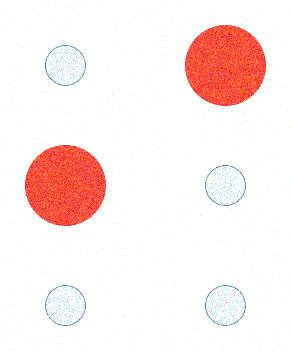I: (19, 20, 273, 333)
